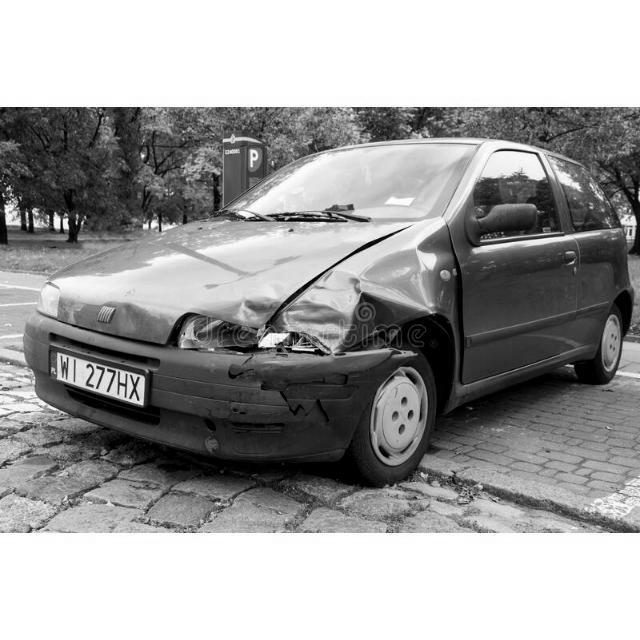Headlight-damage: (154, 299, 323, 368)
fender-dent: (296, 256, 464, 367)
front-bumper-dent: (94, 355, 362, 473)
